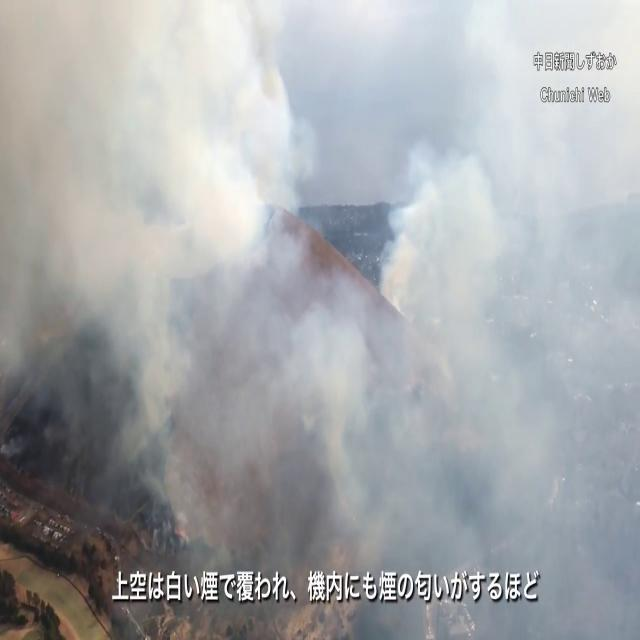Smoke: (0, 64, 626, 563)
